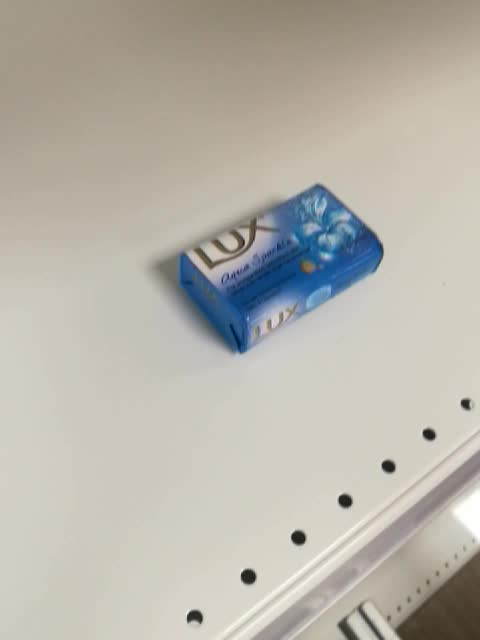soap: (178, 183, 385, 356)
